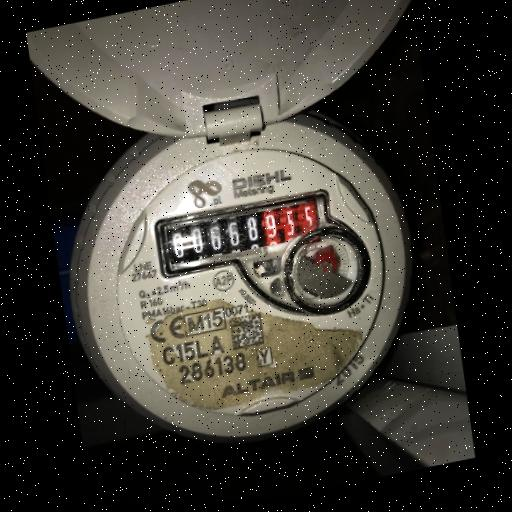0: (188, 221, 210, 260), (168, 226, 190, 264)
5: (293, 198, 320, 237), (276, 203, 301, 242)
6: (205, 218, 228, 257), (223, 214, 246, 253)
8: (241, 211, 265, 250)
9: (258, 207, 282, 245)
border_water_meter_number: (151, 184, 337, 282)
